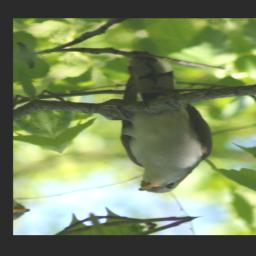Cuckoo: (75, 45, 237, 198)
